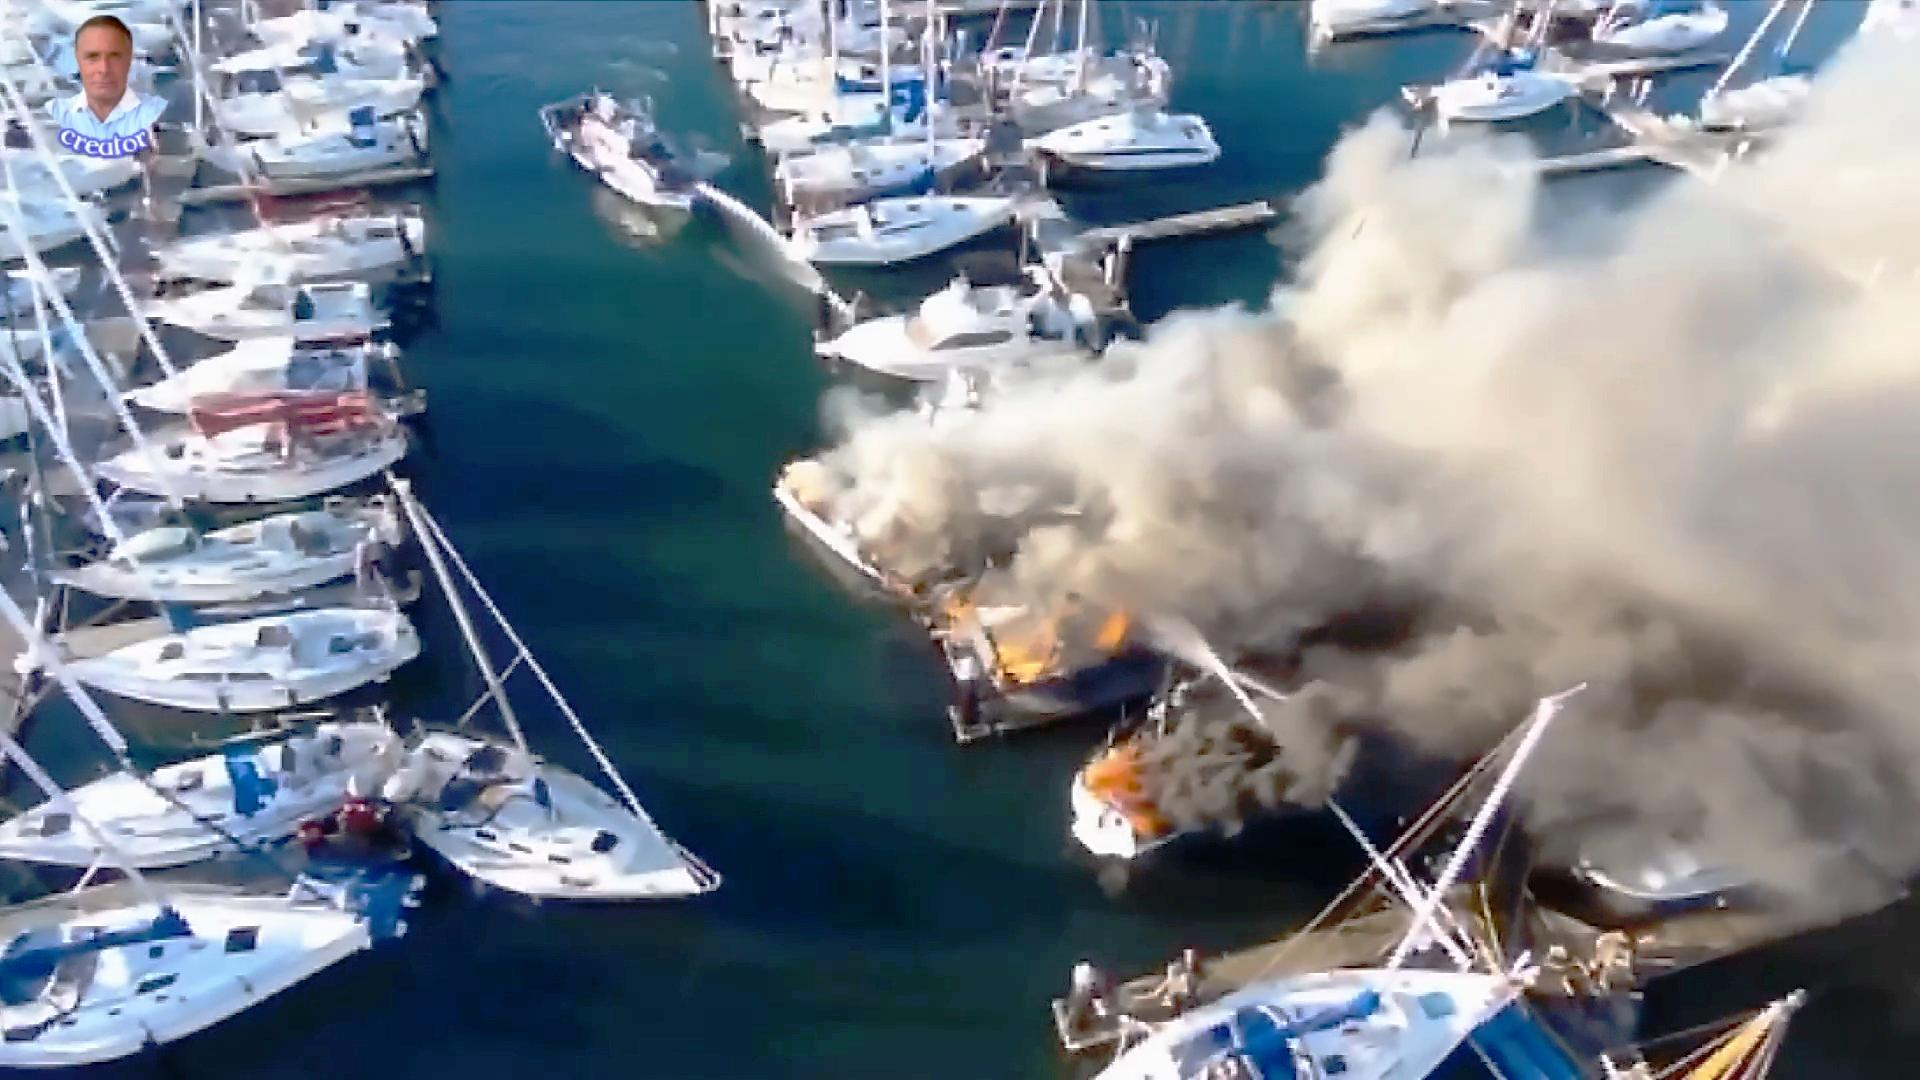smoke: (982, 269, 1920, 535), (1096, 315, 1481, 613), (1353, 125, 1565, 502), (1183, 654, 1375, 811)
